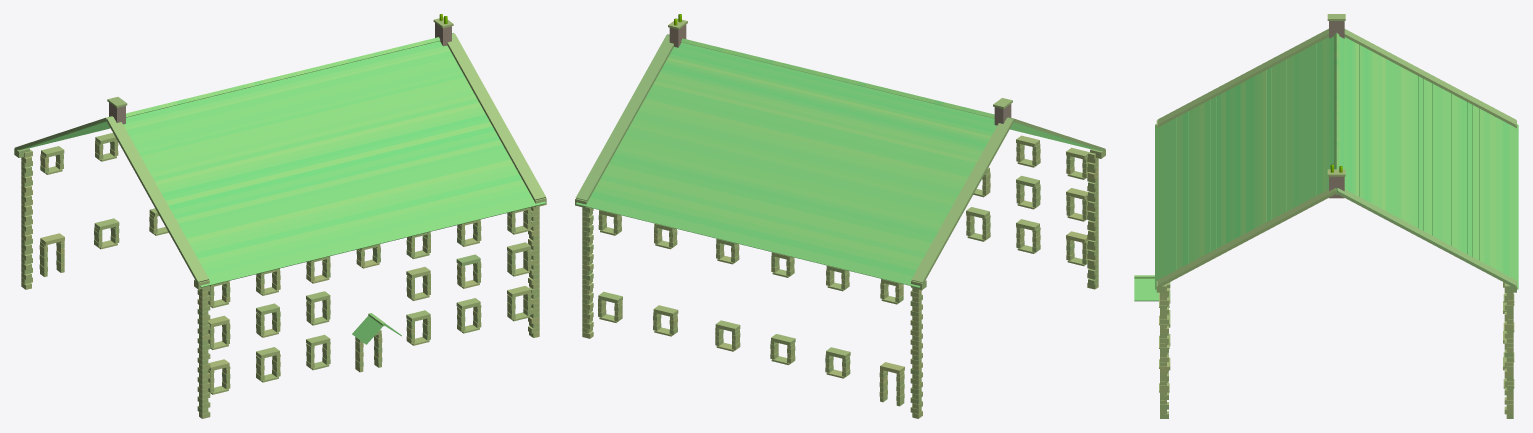
The model's file is SM_Bld_044_Stone.glb.
3 views of the same model, side by side, from view 1: azimuth 30°, elevation 25°; view 2: azimuth 150°, elevation 25°; view 3: azimuth 270°, elevation 25° (orthographic). The views are drawn at different scales.
Parts seen in each view (by area): view 1: SM_Bld_044_Stone; view 2: SM_Bld_044_Stone; view 3: SM_Bld_044_Stone.
Boxes of the visible parts, x1=… form: SM_Bld_044_Stone: x1=14, y1=14, x2=546, y2=418; SM_Bld_044_Stone: x1=575, y1=14, x2=1105, y2=418; SM_Bld_044_Stone: x1=1134, y1=14, x2=1518, y2=418.
Size of the model in its own units: 22.5 by 15.87 by 22.02.
